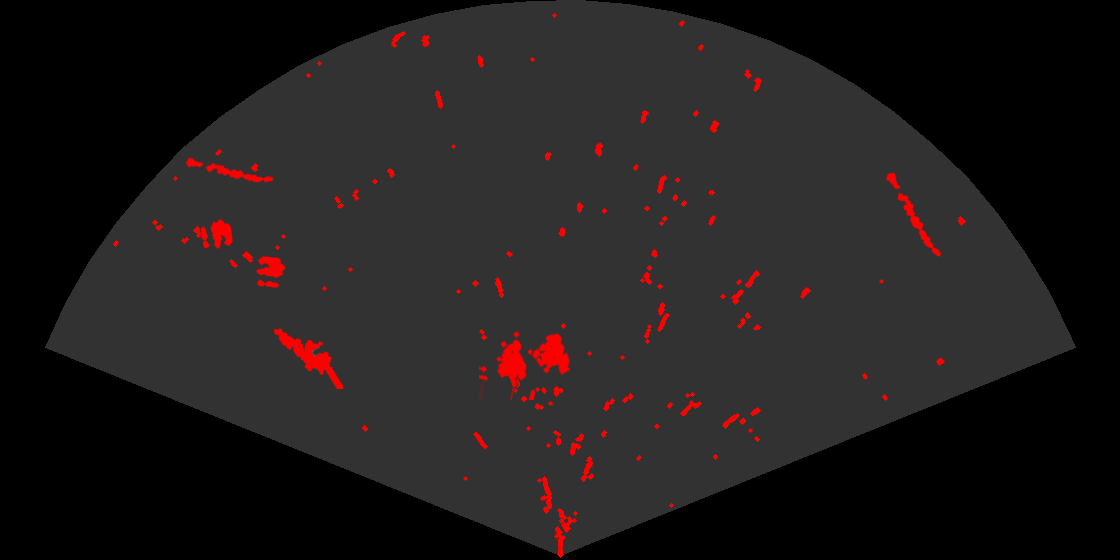ball: (254, 255, 287, 289), (199, 218, 234, 250)
cage: (479, 330, 572, 400)
chain: (884, 171, 943, 258), (183, 156, 275, 184)
frogman: (272, 327, 343, 389)
